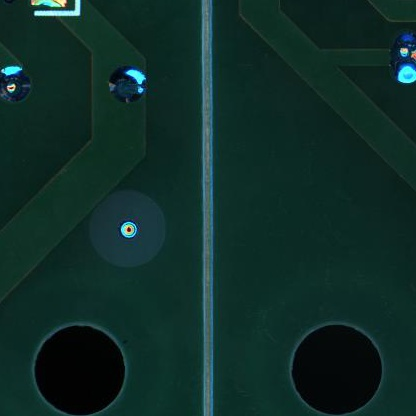spot: (106, 64, 146, 100), (389, 31, 416, 82), (1, 65, 32, 104)
